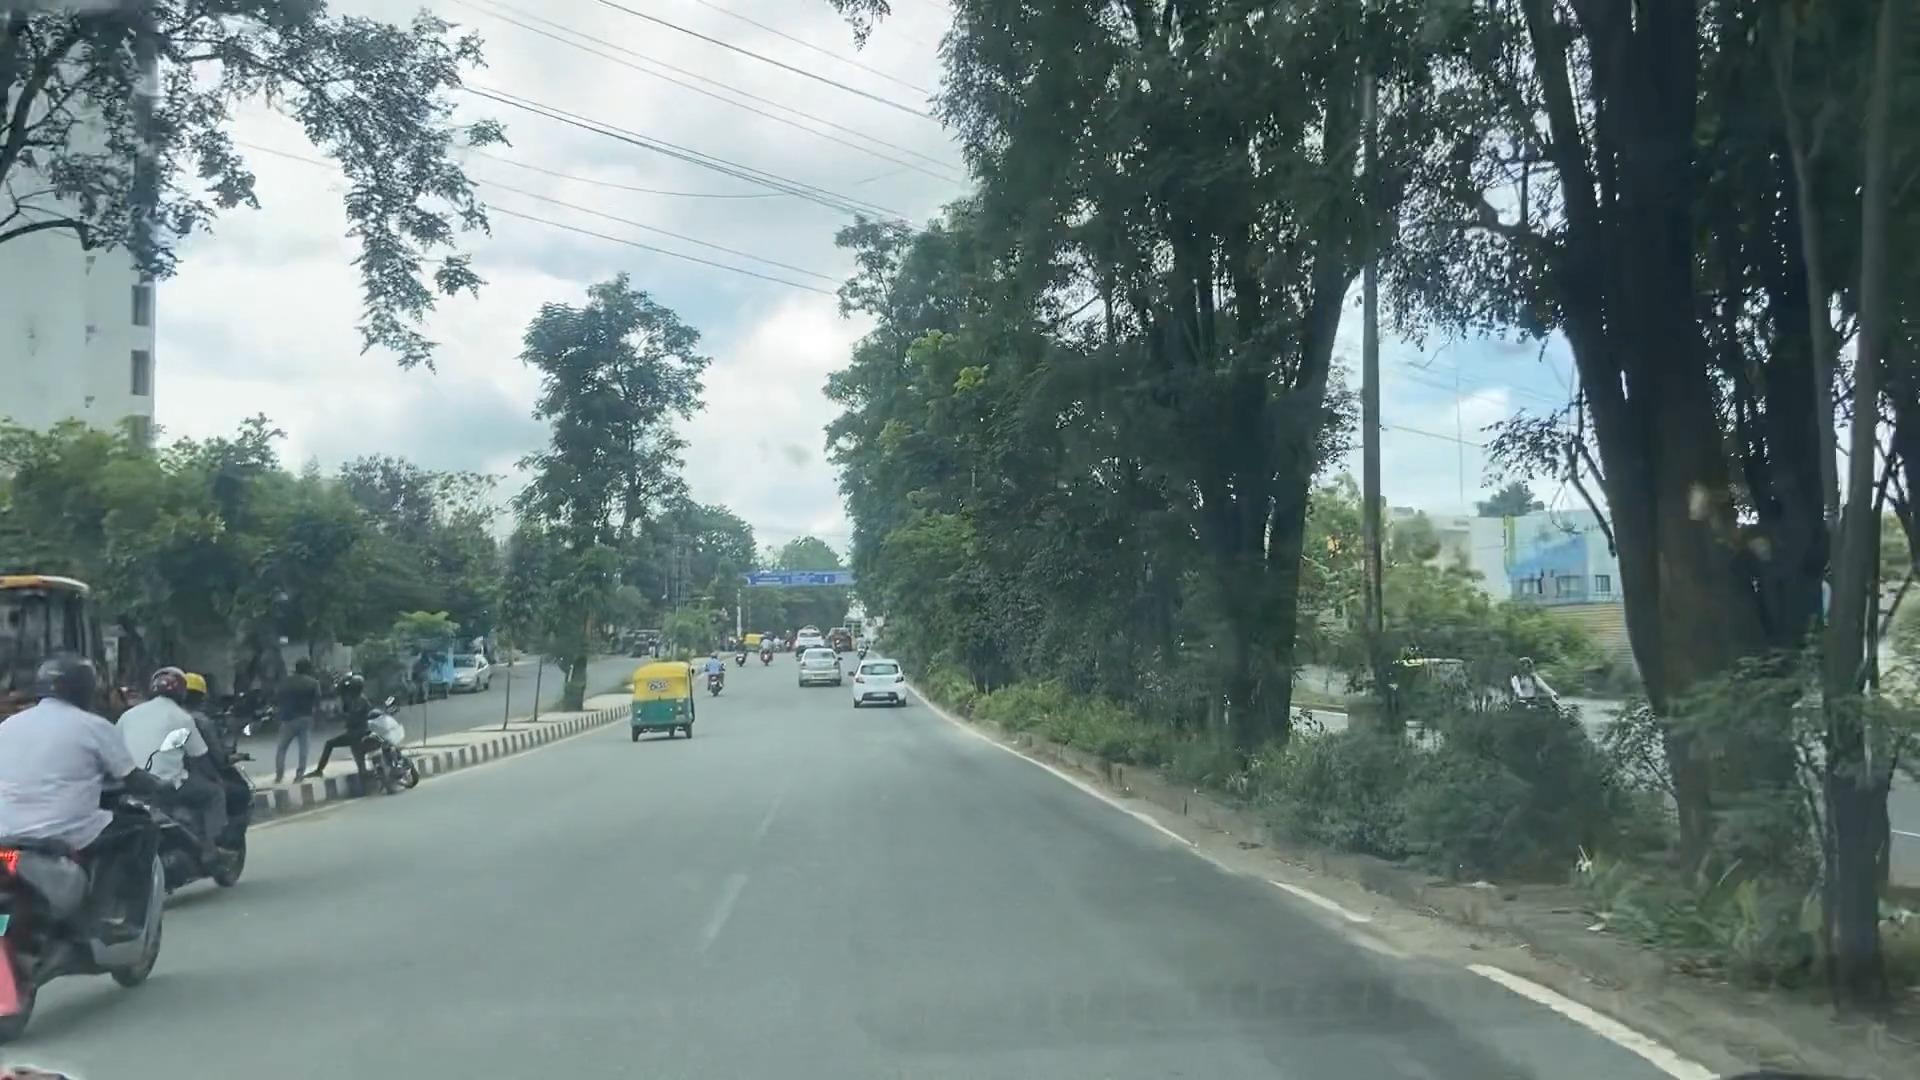LMV: (630, 661, 694, 740), (844, 647, 909, 708), (796, 650, 835, 688)
